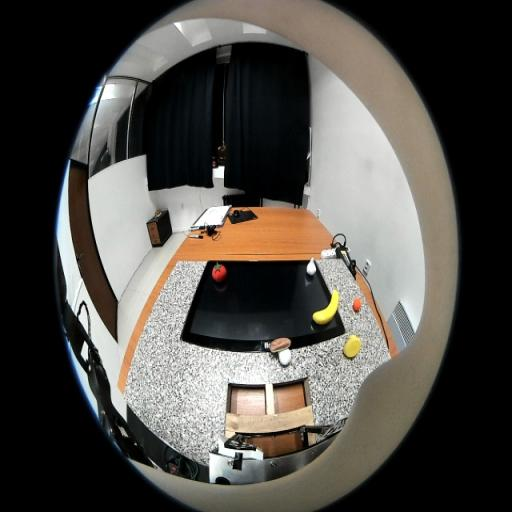Banana: (312, 289, 339, 325)
Duck: (344, 334, 361, 358)
Mushroom: (270, 337, 292, 365)
Onion: (306, 256, 317, 276)
Orange: (353, 298, 362, 312)
Tomato: (212, 262, 226, 282)
